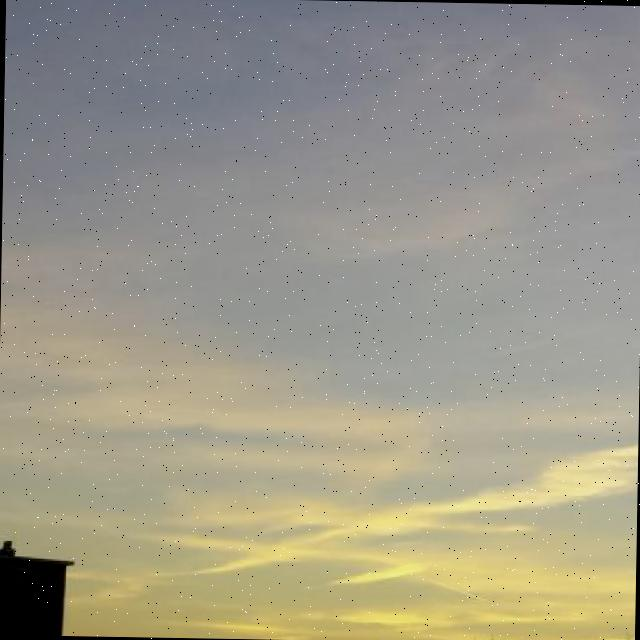Ct: (1, 60, 640, 535)
